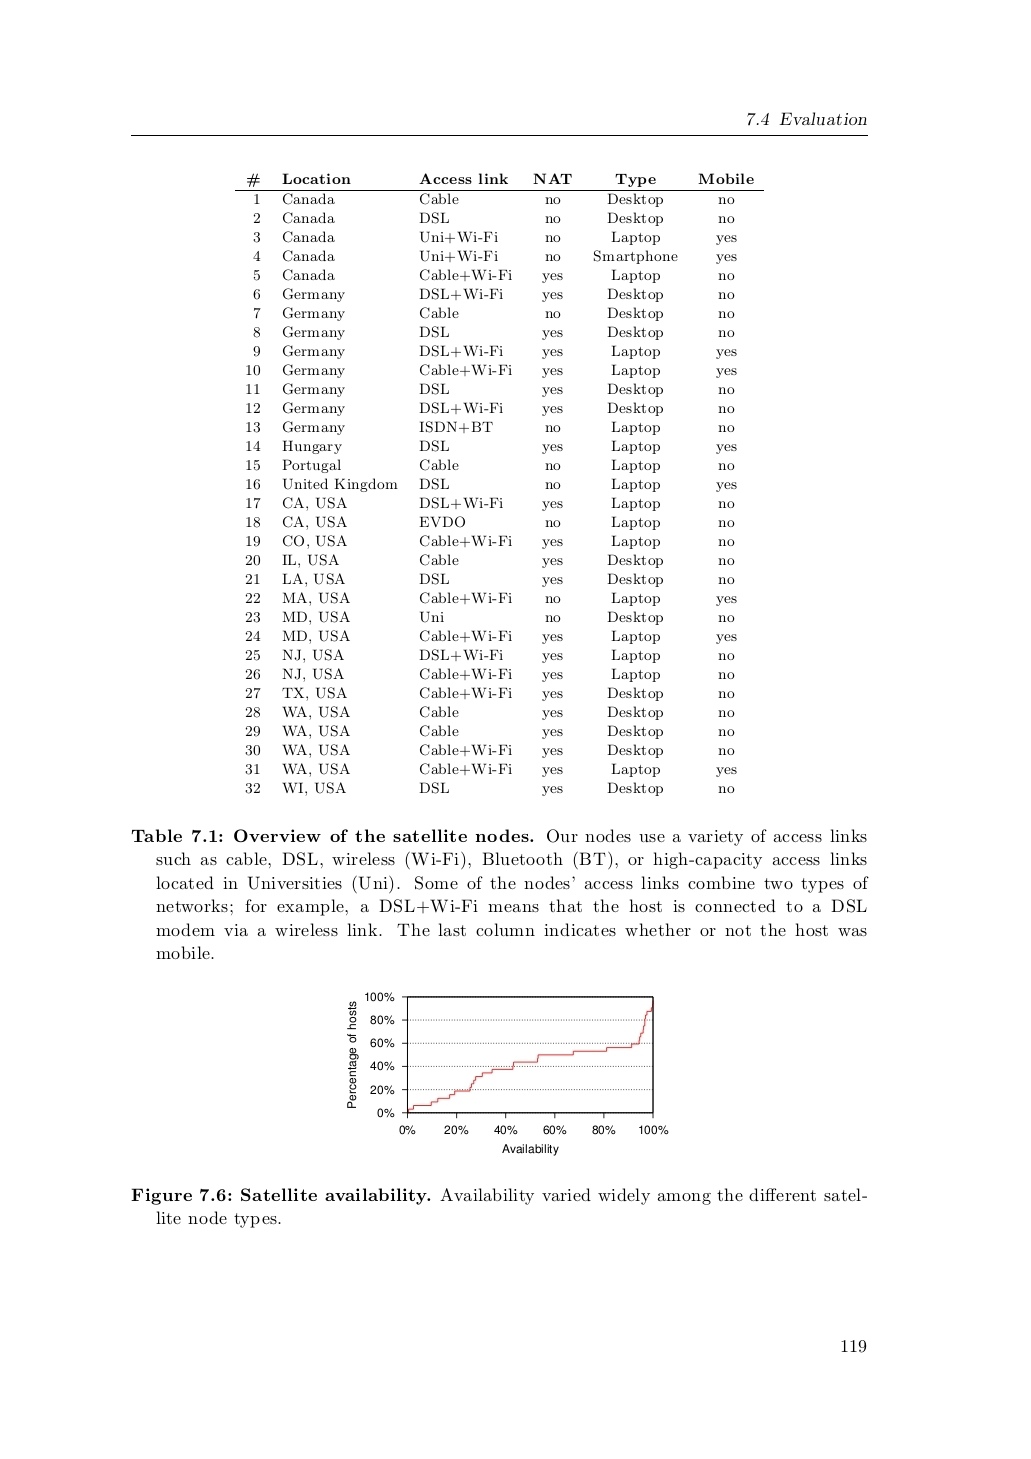Table: (235, 173, 763, 795)
figure: (347, 992, 668, 1154)
